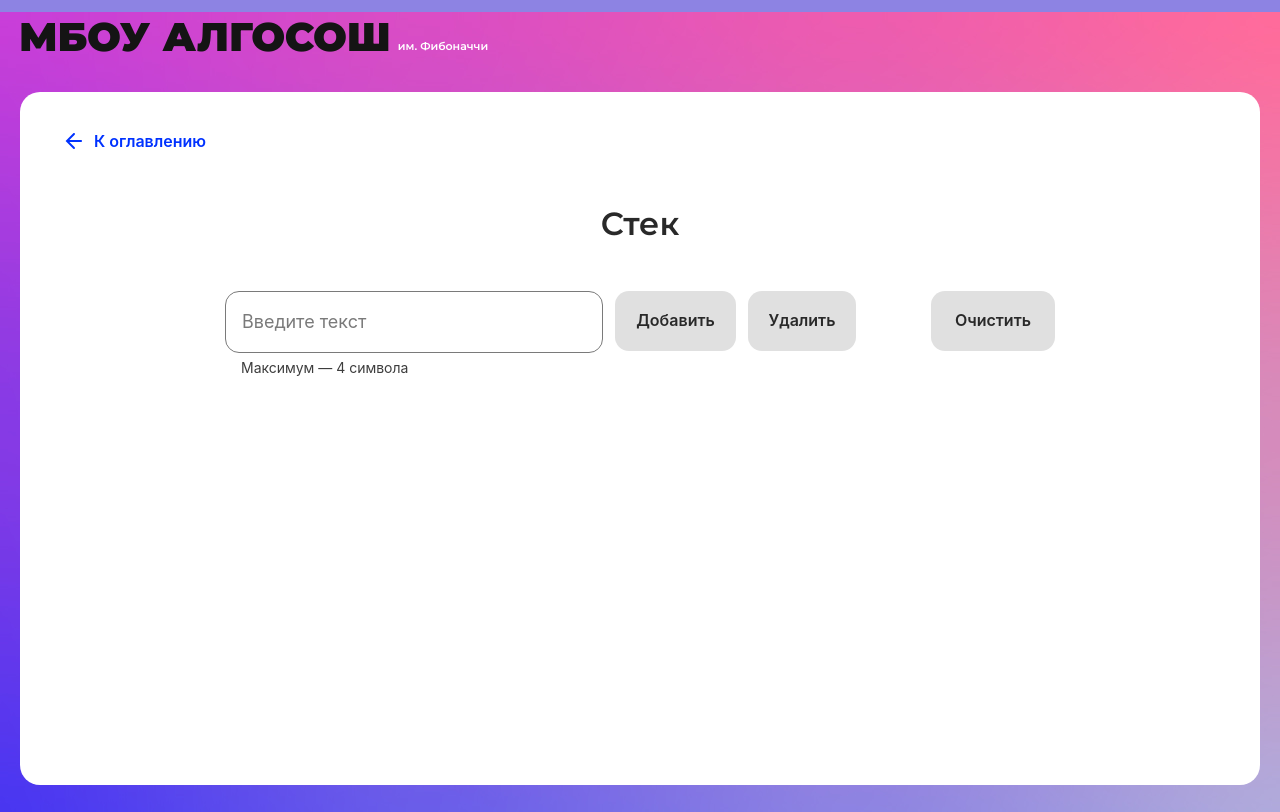
Scenario: Stack tests › Remove element
The width and height of the screenshot is (1280, 812).
Type "one" into the field with test id "input".
click(414, 322); type("one")  # box x1=225 y1=291 x2=603 y2=353
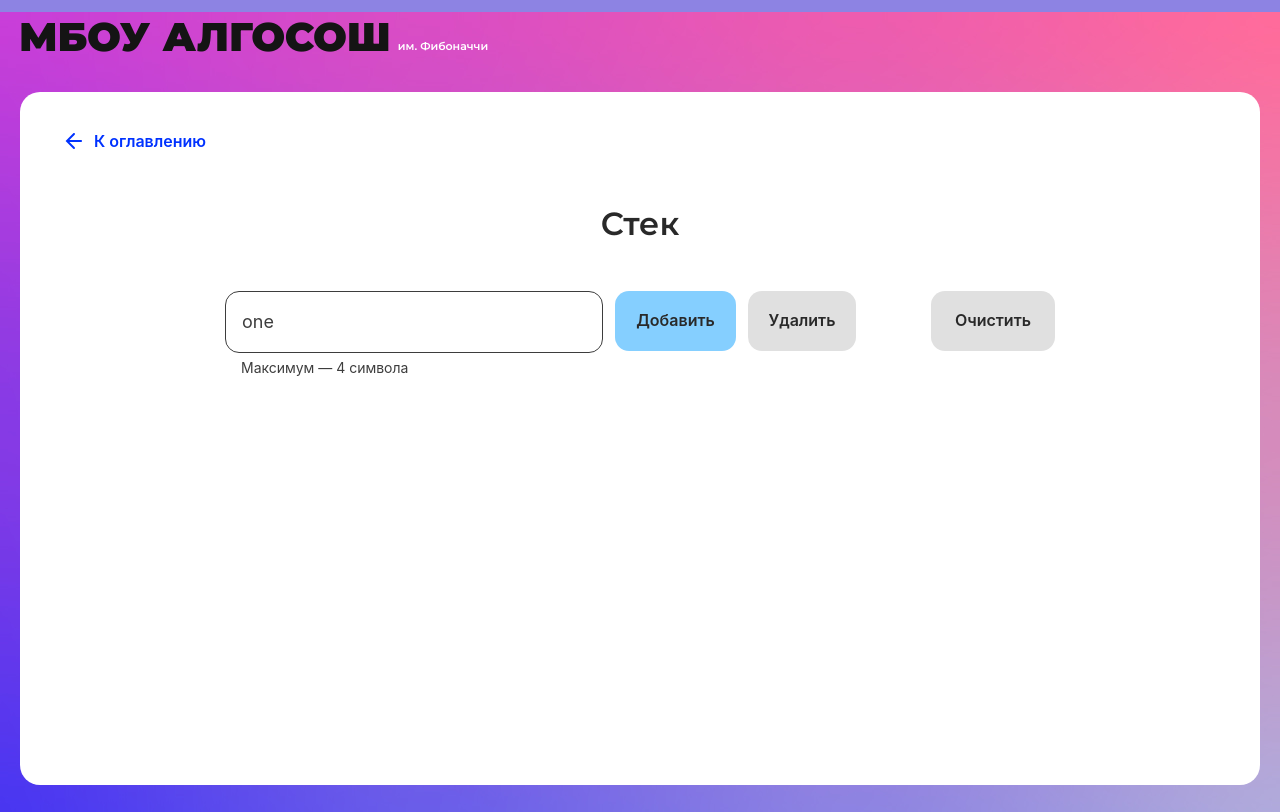
Click the button with test id "add".
click(676, 321)  # box x1=615 y1=291 x2=736 y2=351
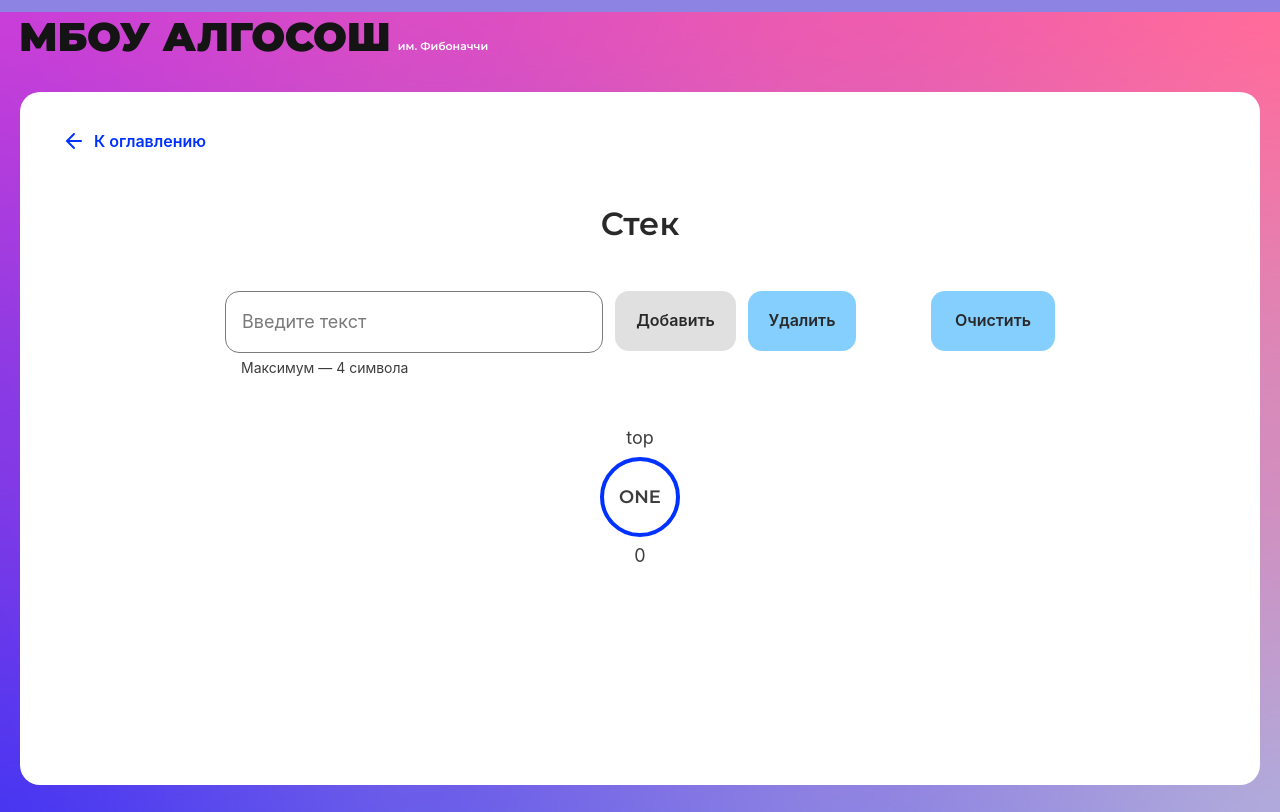
Type "two" into the field with test id "input".
click(414, 322); type("two")  # box x1=225 y1=291 x2=603 y2=353
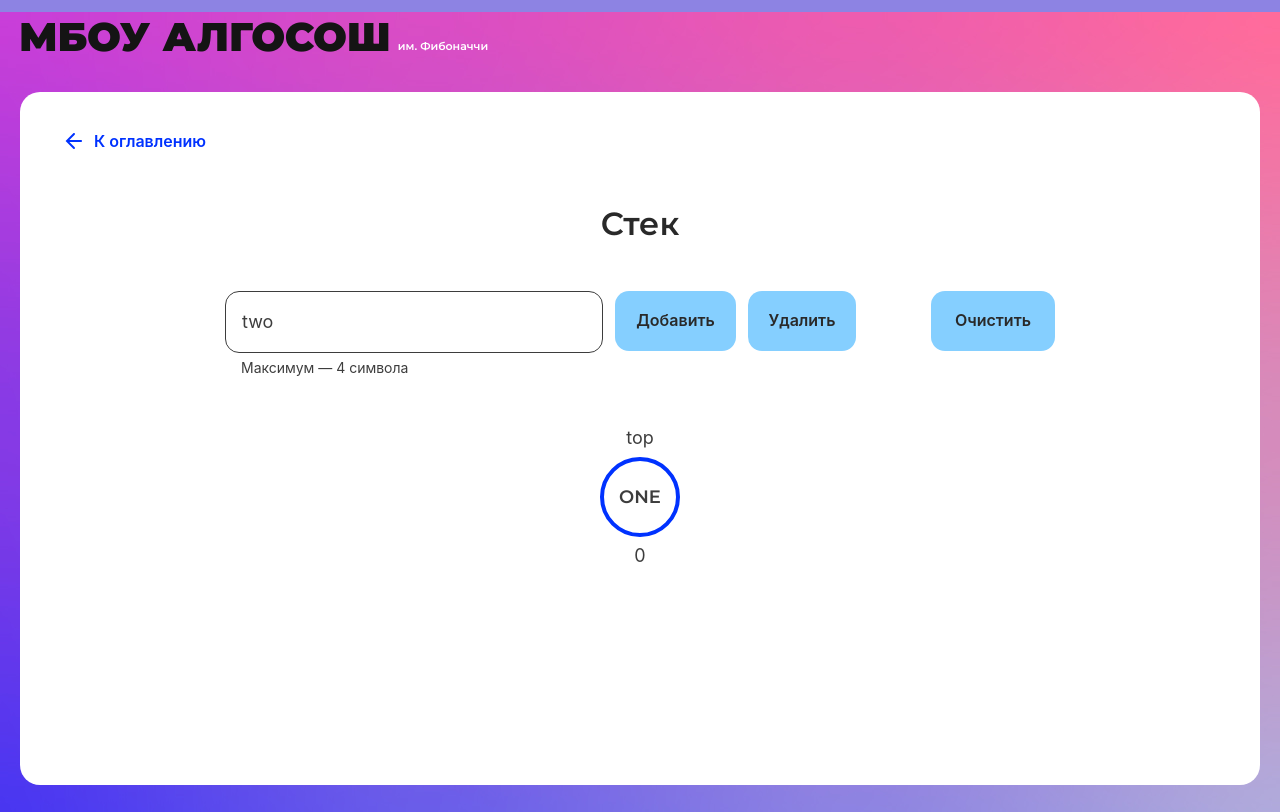
Click the button with test id "add".
click(676, 321)  # box x1=615 y1=291 x2=736 y2=351
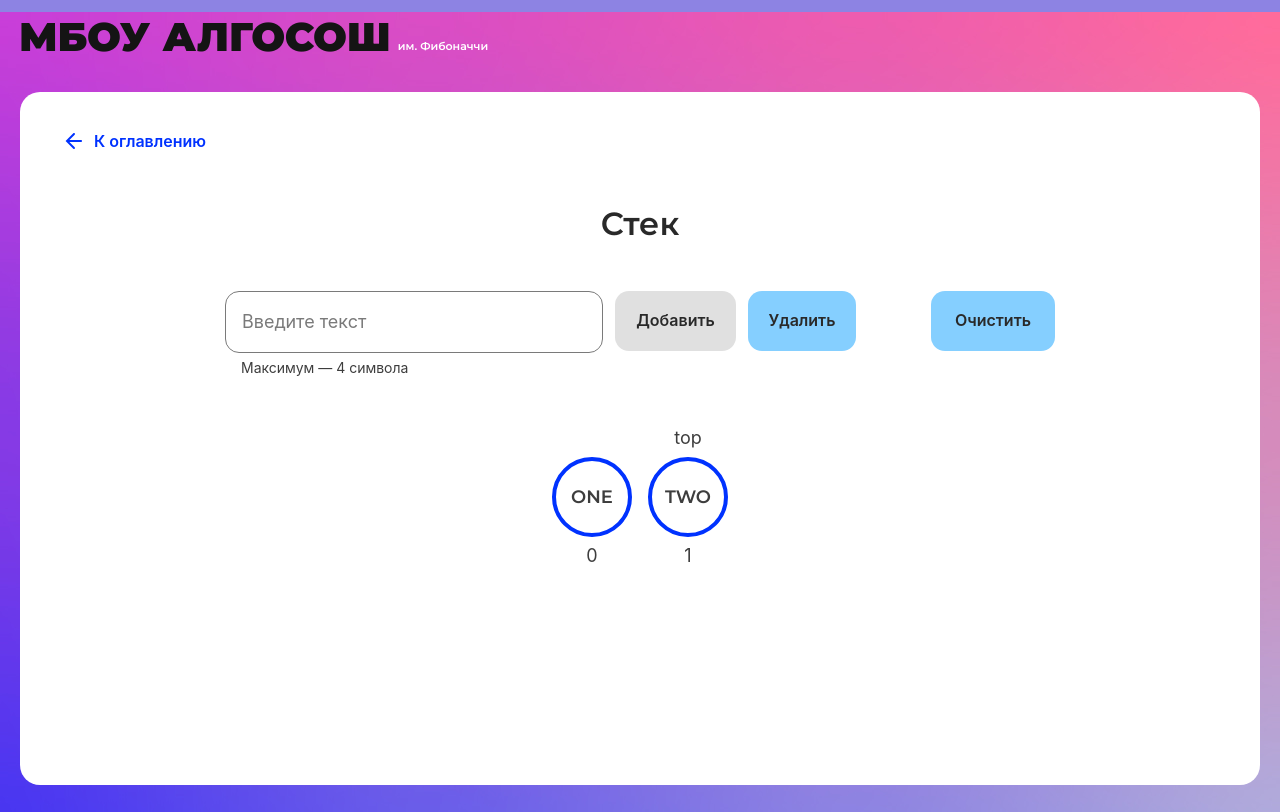
Click the button with test id "remove".
click(802, 321)  # box x1=748 y1=291 x2=856 y2=351
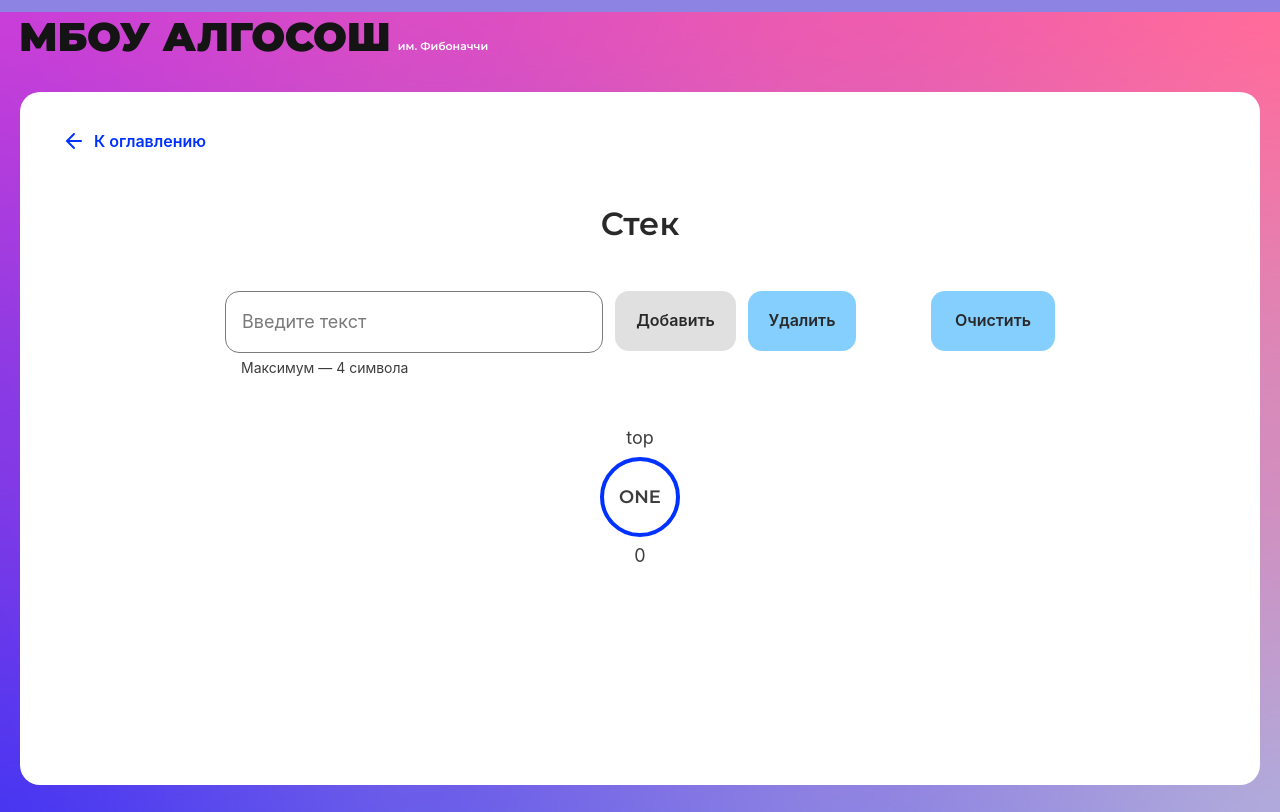
Expected: the text with test id "circle" reads "one", x1=619 y1=486 x2=661 y2=508
Expected: the text with test id "circleIndex" reads "0", x1=634 y1=545 x2=645 y2=566
Expected: the number of elements with test id "circleContainer" is 1, x1=600 y1=457 x2=680 y2=537
